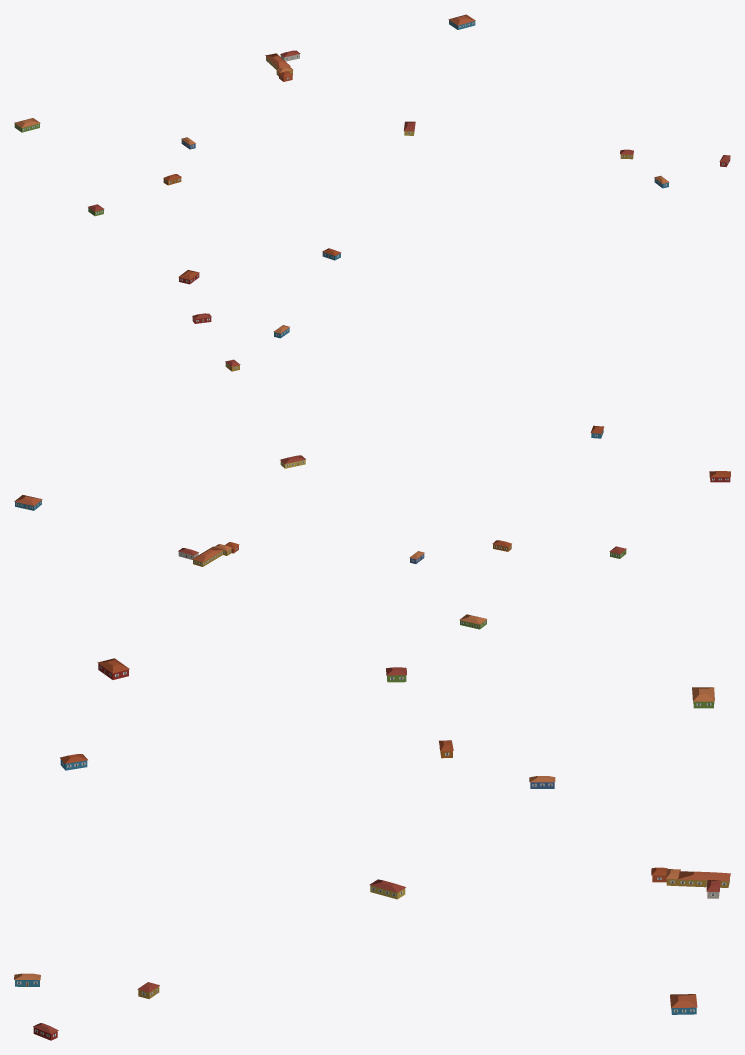
Rendered from msb_noord_m11_m9.glb.
The picture shows the model from 3 angles, top to bottom: view 1: azimuth 30°, elevation 25°; view 2: azimuth 150°, elevation 25°; view 3: azimuth 270°, elevation 25°; orthographic projection. The views are drawn at different scales.
Parts seen in each view (by area): view 1: msb_noord_m11_m9_lod0; view 2: msb_noord_m11_m9_lod0; view 3: msb_noord_m11_m9_lod0.
Boxes of the visible parts, x1,y1,x2,y2 form: msb_noord_m11_m9_lod0: (14,14,730,284); msb_noord_m11_m9_lod0: (14,313,730,629); msb_noord_m11_m9_lod0: (14,658,730,1040).
Size of what is drawn, in the model's own units: 405 by 15.93 by 317.
2 materials, 1 textured.
